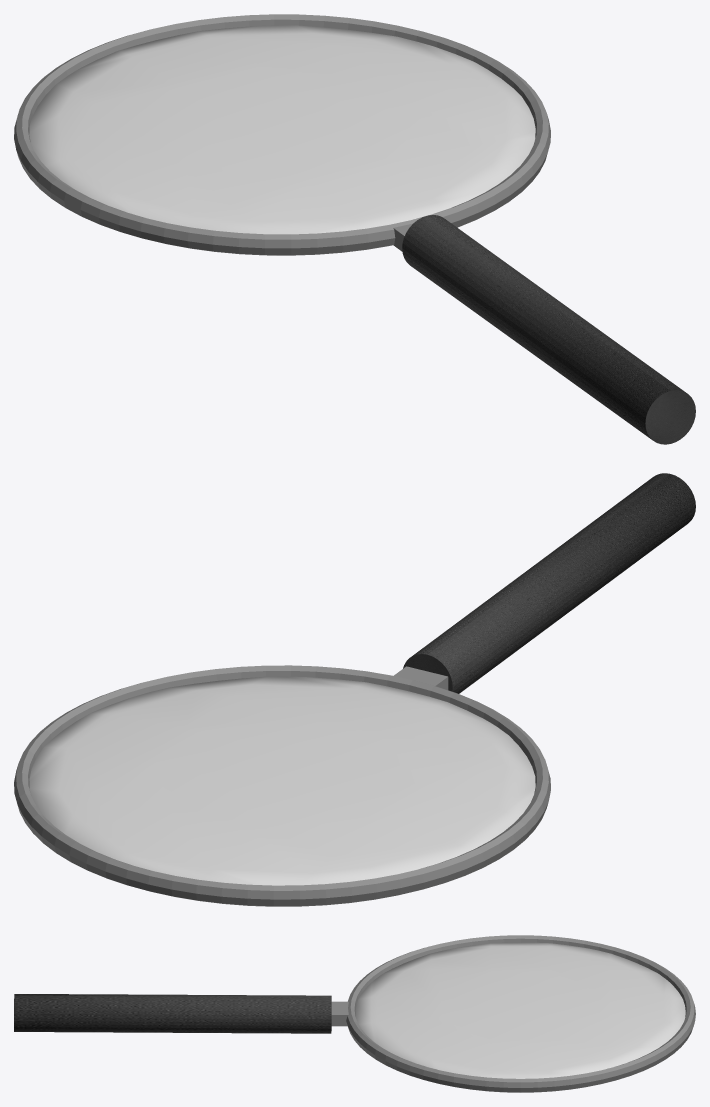
Rendered from Magnifier.fbx.
3 views of the same model, one above another, from view 1: azimuth 30°, elevation 25°; view 2: azimuth 150°, elevation 25°; view 3: azimuth 270°, elevation 25° (orthographic). The views are drawn at different scales.
Visible parts, largest first — view 1: Mball.001, Cylinder, Circle.001; view 2: Mball.001, Circle.001, Cylinder, Cube; view 3: Mball.001, Cylinder, Circle.001, Cube.
Boxes of the visible parts, x1,y1,x2,y2 form: Mball.001: (29, 25, 535, 234); Cylinder: (402, 215, 695, 444); Circle.001: (14, 14, 550, 255); Mball.001: (29, 676, 535, 885); Circle.001: (14, 665, 550, 906); Cylinder: (403, 473, 695, 693); Cube: (393, 666, 448, 689); Mball.001: (355, 942, 685, 1078); Cylinder: (14, 994, 331, 1033); Circle.001: (346, 935, 695, 1092); Cube: (331, 1001, 348, 1026).
Size of the model in its own units: 271 by 30.99 by 527.
